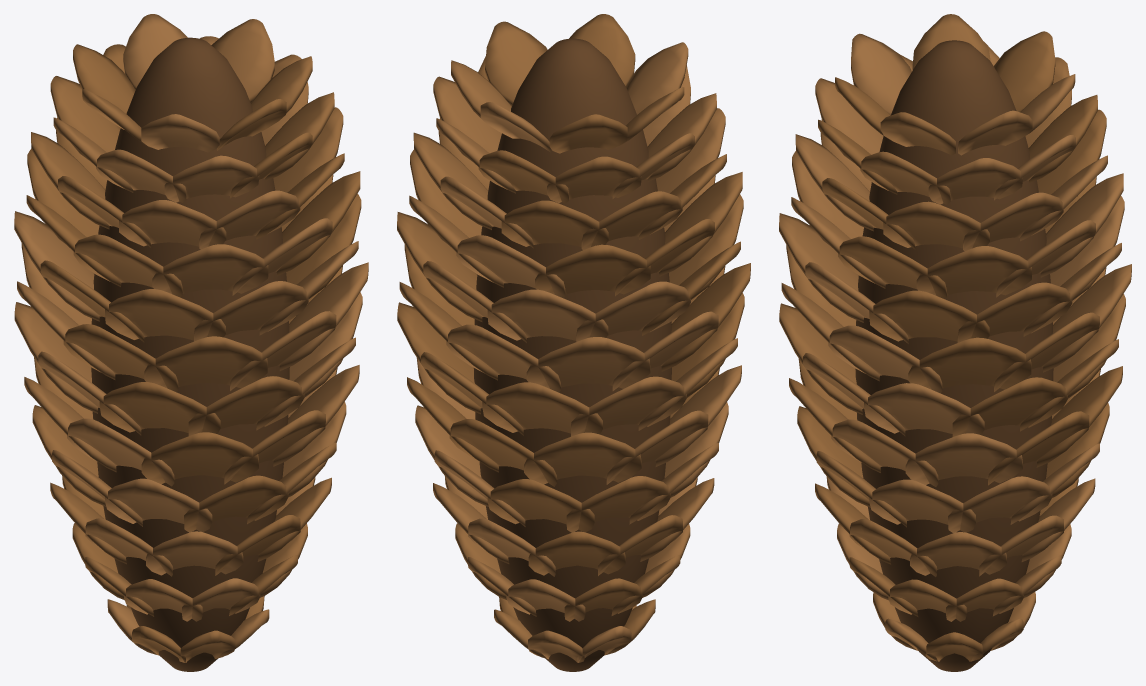
Rendered from A-NEW-20261027-PINECONE-001_LOD1_R1.glb.
3 views of the same model, side by side, from view 1: azimuth 30°, elevation 25°; view 2: azimuth 150°, elevation 25°; view 3: azimuth 270°, elevation 25° (orthographic).
Parts seen in each view (by area): view 1: closed central woody core, anchored overlapping woody scale 055, anchored overlapping woody scale 063, anchored overlapping woody scale 046, anchored overlapping woody scale 038, anchored overlapping woody scale 072, anchored overlapping woody scale 080, anchored overlapping woody scale 047, anchored overlapping woody scale 064, anchored overlapping woody scale 029, anchored overlapping woody scale 061, anchored overlapping woody scale 054 (+61 smaller); view 2: closed central woody core, anchored overlapping woody scale 052, anchored overlapping woody scale 069, anchored overlapping woody scale 043, anchored overlapping woody scale 035, anchored overlapping woody scale 078, anchored overlapping woody scale 086, anchored overlapping woody scale 044, anchored overlapping woody scale 061, anchored overlapping woody scale 099, anchored overlapping woody scale 026, anchored overlapping woody scale 067 (+61 smaller); view 3: closed central woody core, anchored overlapping woody scale 058, anchored overlapping woody scale 066, anchored overlapping woody scale 049, anchored overlapping woody scale 041, anchored overlapping woody scale 075, anchored overlapping woody scale 083, anchored overlapping woody scale 050, anchored overlapping woody scale 067, anchored overlapping woody scale 102, anchored overlapping woody scale 097, anchored overlapping woody scale 032 (+62 smaller).
Boxes of the visible parts, left/top/right/bottom form: closed central woody core: left=91, top=37, right=289, bottom=671; anchored overlapping woody scale 055: left=144, top=336, right=267, bottom=388; anchored overlapping woody scale 063: left=105, top=289, right=225, bottom=340; anchored overlapping woody scale 046: left=99, top=382, right=220, bottom=433; anchored overlapping woody scale 038: left=141, top=432, right=258, bottom=484; anchored overlapping woody scale 072: left=152, top=244, right=268, bottom=293; anchored overlapping woody scale 080: left=119, top=200, right=226, bottom=246; anchored overlapping woody scale 047: left=188, top=376, right=304, bottom=435; anchored overlapping woody scale 064: left=194, top=281, right=308, bottom=341; anchored overlapping woody scale 029: left=105, top=478, right=212, bottom=531; anchored overlapping woody scale 061: left=14, top=211, right=99, bottom=321; anchored overlapping woody scale 054: left=63, top=324, right=178, bottom=392; closed central woody core: left=473, top=38, right=671, bottom=671; anchored overlapping woody scale 052: left=526, top=337, right=650, bottom=388; anchored overlapping woody scale 069: left=487, top=289, right=608, bottom=340; anchored overlapping woody scale 043: left=482, top=382, right=602, bottom=434; anchored overlapping woody scale 035: left=524, top=432, right=641, bottom=484; anchored overlapping woody scale 078: left=535, top=244, right=650, bottom=294; anchored overlapping woody scale 086: left=501, top=200, right=608, bottom=247; anchored overlapping woody scale 044: left=571, top=376, right=686, bottom=436; anchored overlapping woody scale 061: left=576, top=281, right=690, bottom=341; anchored overlapping woody scale 099: left=485, top=21, right=547, bottom=106; anchored overlapping woody scale 026: left=487, top=479, right=594, bottom=532; anchored overlapping woody scale 067: left=397, top=212, right=482, bottom=321; closed central woody core: left=855, top=40, right=1053, bottom=671; anchored overlapping woody scale 058: left=908, top=337, right=1031, bottom=389; anchored overlapping woody scale 066: left=869, top=290, right=989, bottom=341; anchored overlapping woody scale 049: left=864, top=383, right=984, bottom=435; anchored overlapping woody scale 041: left=905, top=433, right=1022, bottom=484; anchored overlapping woody scale 075: left=916, top=246, right=1031, bottom=295; anchored overlapping woody scale 083: left=883, top=201, right=989, bottom=248; anchored overlapping woody scale 050: left=952, top=377, right=1067, bottom=436; anchored overlapping woody scale 067: left=957, top=282, right=1072, bottom=342; anchored overlapping woody scale 102: left=994, top=31, right=1055, bottom=112; anchored overlapping woody scale 097: left=851, top=33, right=911, bottom=114; anchored overlapping woody scale 032: left=869, top=479, right=975, bottom=532.
Bounding box in the file's own units: 0.0886 × 0.174 × 0.0887.
